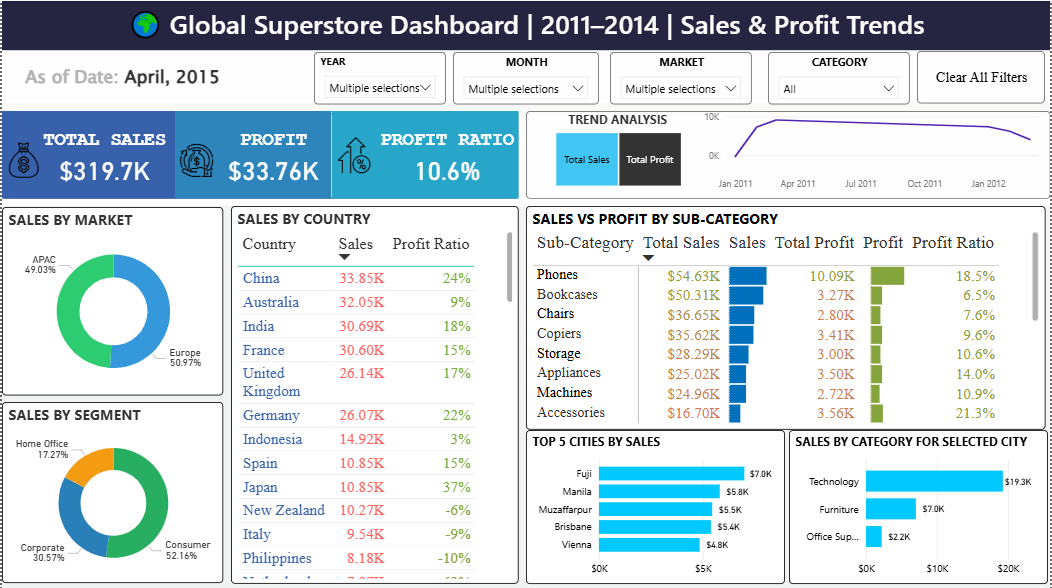

The page's visual inventory and layout, read from the dashboard file:
{"tool":"powerbi","page":{"name":"Overview","canvas":[1280,720],"ordinal":0},"visuals":[{"type":"shape","box":[0,250.4,1280,470.3],"z":0},{"type":"shape","box":[0,61.2,1280,189.2],"z":1000},{"type":"shape","box":[0,134.2,630.2,107.1],"z":2000},{"type":"shape","box":[0,61.5,1280,64],"z":3000},{"type":"shape","box":[0,0,1280,59.8],"z":4000},{"type":"shape","box":[0,134.2,211.7,107.1],"z":5000},{"type":"textbox","box":[0,0,1280,60],"z":6000},{"type":"actionButton","box":[1117.5,60.3,156.3,64],"z":7000},{"type":"slicer","title":"YEAR","fields":{"Values":["Orders.Order Date.Variation.Date Hierarchy.Year"]},"box":[750.8,61.5,161.2,64],"z":8000},{"type":"slicer","title":"MONTH","fields":{"Values":["Orders.Order Date.Variation.Date Hierarchy.Month"]},"box":[925.5,61.5,179.7,64],"z":9000},{"type":"textbox","box":[13.5,71.4,491.1,41.8],"z":10000},{"type":"card","title":"TOTAL SALES","fields":{"Values":["Sum(Orders.Sales)"]},"box":[39.4,156.3,172.3,76.3],"z":11000},{"type":"shape","box":[211.7,134.2,190.8,107.1],"z":12000},{"type":"shape","box":[402.5,134.2,227.7,107.1],"z":13000},{"type":"image","box":[0,125.2,52.9,136.3],"z":14000},{"type":"image","box":[211.5,126.6,52.9,135],"z":15000},{"type":"card","title":"PROFIT","fields":{"Values":["Sum(Orders.Profit)"]},"box":[259.7,156.3,142.8,76.3],"z":16000},{"type":"card","title":"PROFIT RATIO","fields":{"Values":["Orders.Profit Ratio"]},"box":[456.6,156.3,173.5,76.3],"z":17000},{"type":"image","box":[402.5,134.2,54.2,107.1],"z":18000},{"type":"shape","box":[640,134.2,640,107.1],"z":19000},{"type":"lineChart","fields":{"Y":["Orders.Total Profit"],"Category":["Orders.Order Date.Variation.Date Hierarchy.Year","Orders.Order Date.Variation.Date Hierarchy.Month"]},"box":[851.5,126.6,428.5,114.1],"z":20000},{"type":"slicer","title":"TREND ANALYSIS","fields":{"Values":["Trend Selector.Trend Selector"]},"box":[649.8,134.2,201.8,98.5],"z":21000},{"type":"donutChart","title":"SALES BY SEGMENT","fields":{"Y":["Sum(Orders.Sales)"],"Category":["Orders.Segment"]},"box":[0,489.7,269.9,221.2],"z":22000},{"type":"donutChart","title":"SALES BY MARKET","fields":{"Y":["Sum(Orders.Sales)"],"Category":["Orders.Market"]},"box":[0,251.8,269.9,229.6],"z":23000},{"type":"tableEx","title":"SALES BY COUNTRY","fields":{"Values":["Orders.Country","Sum(Orders.Sales)","Orders.Profit Ratio"]},"box":[279.7,250.4,350.6,460.5],"z":24000},{"type":"pivotTable","title":"SALES VS PROFIT BY SUB-CATEGORY","fields":{"Rows":["Orders.Sub-Category"],"Values":["Orders.Total Sales","Sum(Orders.Sales)","Orders.Total Profit","Sum(Orders.Profit)","Orders.Profit Ratio"]},"box":[640,249.8,633.8,273.2],"z":25000},{"type":"barChart","title":"TOP 5 CITIES BY SALES","fields":{"Category":["Orders.City"],"Y":["Sum(Orders.Sales)"]},"box":[640,523.1,315.8,187.8],"z":26000},{"type":"barChart","title":"SALES BY CATEGORY FOR SELECTED CITY","fields":{"Y":["Sum(Orders.Sales)"],"Category":["Orders.Category"]},"box":[960,523.1,315.8,187.8],"z":27000}]}

Visuals, with their boxes in screenshot pixels (x1, y1, x2, y2), scaled from the page's 1280x720 canvas onto the 1052x588 screenshot:
shape: BBox(0, 204, 1051, 587)
shape: BBox(0, 50, 1051, 204)
shape: BBox(0, 110, 518, 197)
shape: BBox(0, 50, 1051, 102)
shape: BBox(0, 0, 1051, 49)
shape: BBox(0, 110, 174, 197)
textbox: BBox(0, 0, 1051, 49)
actionButton: BBox(918, 49, 1047, 102)
"YEAR" slicer: BBox(617, 50, 750, 102)
"MONTH" slicer: BBox(761, 50, 908, 102)
textbox: BBox(11, 58, 415, 92)
"TOTAL SALES" card: BBox(32, 128, 174, 190)
shape: BBox(174, 110, 331, 197)
shape: BBox(331, 110, 518, 197)
image: BBox(0, 102, 43, 214)
image: BBox(174, 103, 217, 214)
"PROFIT" card: BBox(213, 128, 331, 190)
"PROFIT RATIO" card: BBox(375, 128, 518, 190)
image: BBox(331, 110, 375, 197)
shape: BBox(526, 110, 1051, 197)
lineChart - Orders.Total Profit x Orders.Order Date.Variation.Date Hierarchy.Year: BBox(700, 103, 1051, 197)
"TREND ANALYSIS" slicer: BBox(534, 110, 700, 190)
"SALES BY SEGMENT" donutChart: BBox(0, 400, 222, 581)
"SALES BY MARKET" donutChart: BBox(0, 206, 222, 393)
"SALES BY COUNTRY" tableEx: BBox(230, 204, 518, 581)
"SALES VS PROFIT BY SUB-CATEGORY" pivotTable: BBox(526, 204, 1047, 427)
"TOP 5 CITIES BY SALES" barChart: BBox(526, 427, 786, 581)
"SALES BY CATEGORY FOR SELECTED CITY" barChart: BBox(789, 427, 1049, 581)
